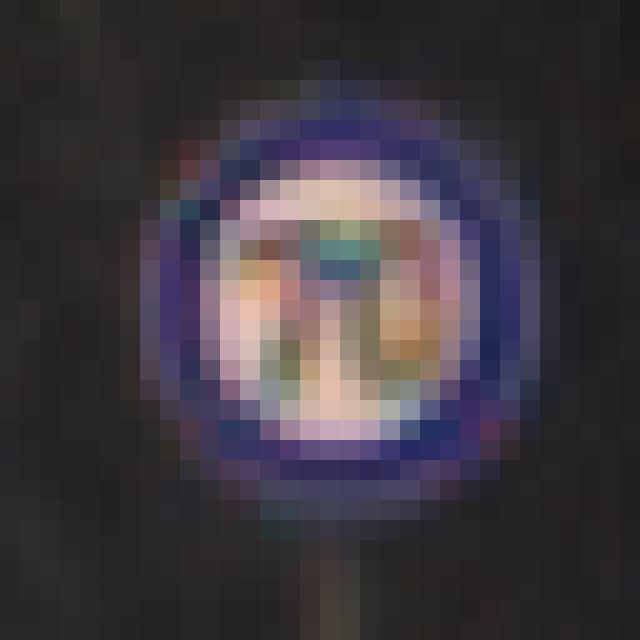SPEED LIMIT 70: (160, 112, 514, 514)
